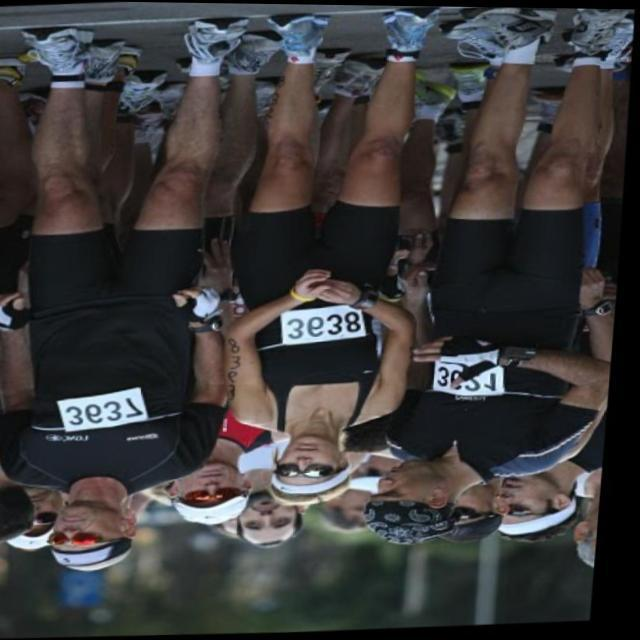dorsal: (281, 300, 376, 350), (62, 384, 156, 433), (431, 358, 518, 401)
